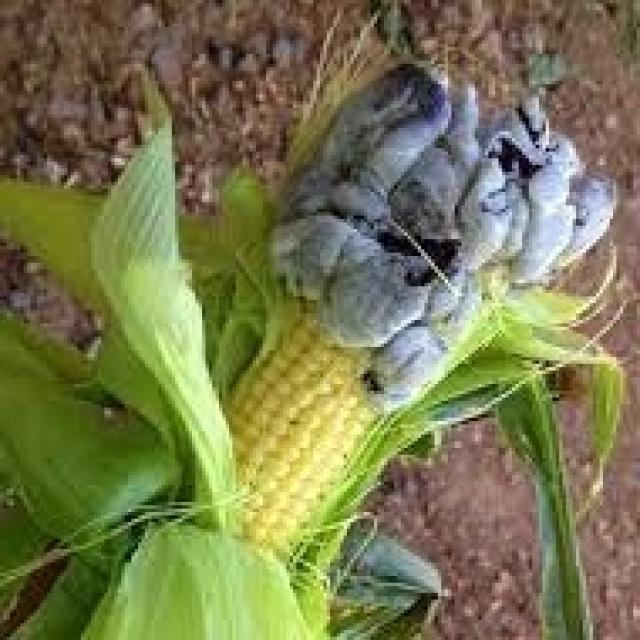Leaf_Scald: (84, 40, 633, 572)
